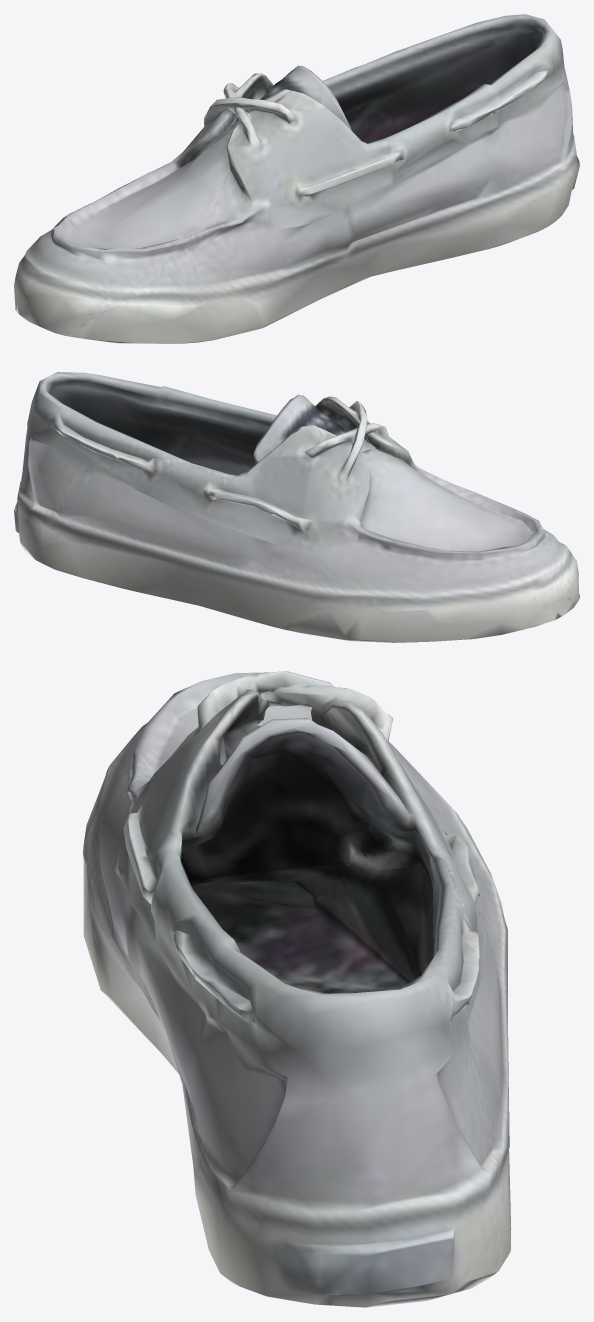
Rendered from gso_womens_sparkle_suede_bahama_in_silver_sparkle_suede_grey_patent_x9rclu7ejxx.glb.
3 renders of one model, top to bottom at view 1: azimuth 30°, elevation 25°; view 2: azimuth 150°, elevation 25°; view 3: azimuth 270°, elevation 25°, orthographic. The views are drawn at different scales.
Visible parts, largest first — view 1: z-up-to-y-up; view 2: z-up-to-y-up; view 3: z-up-to-y-up.
Boxes of the visible parts, <box> form: z-up-to-y-up: <box>14,14,579,343</box>; z-up-to-y-up: <box>14,372,579,642</box>; z-up-to-y-up: <box>83,671,511,1307</box>.
Bounding box in the file's own units: 0.2484 × 0.0845 × 0.0887.
1 material, 1 textured.
